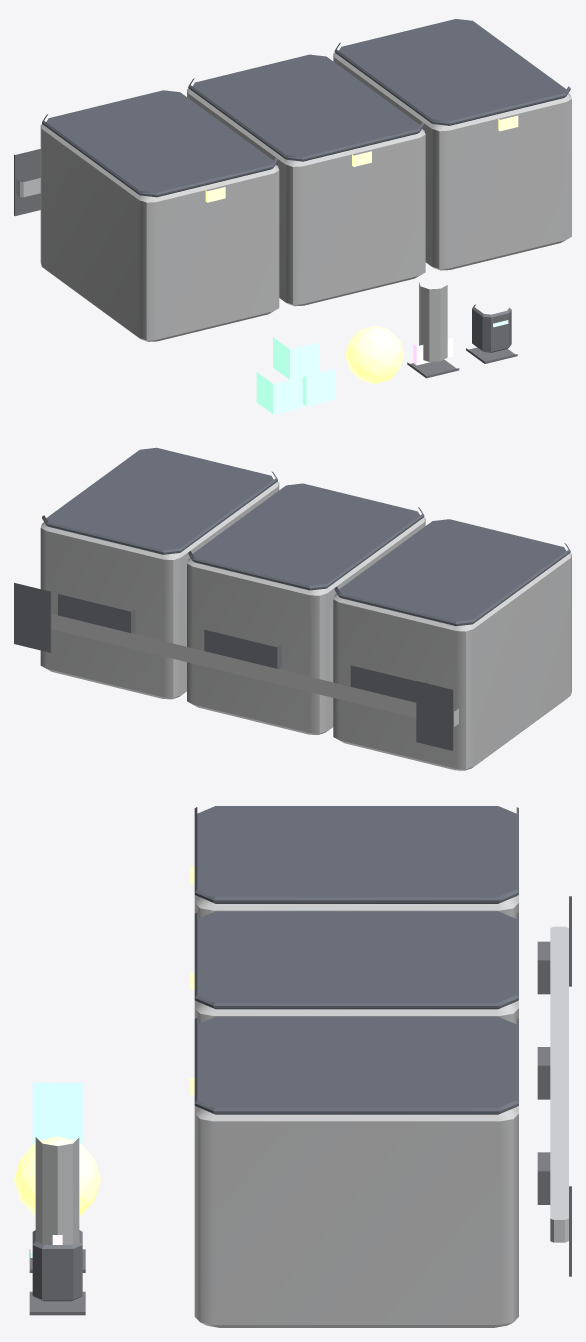
File: iter_03.glb
The picture shows the model from 3 angles, top to bottom: view 1: azimuth 30°, elevation 25°; view 2: azimuth 150°, elevation 25°; view 3: azimuth 270°, elevation 25°; orthographic projection. The views are drawn at different scales.
Parts seen in each view (by area): view 1: Bins, Bin_Lids, Toy_Blocks, Toy_Ball, Toy_Rocket, Toy_Sprocket, Wall_Plates, Mag_Pads, Lid_Latches; view 2: Bins, Bin_Lids, Wall_Rail, Bin_Hooks, Wall_Plates; view 3: Bin_Lids, Bins, Wall_Rail, Toy_Rocket, Toy_Sprocket, Toy_Blocks, Toy_Ball, Bin_Hooks, Mag_Pads.
Boxes of the visible parts, x1,y1,x2,y2 form: Bins: [40, 53, 571, 341]; Bin_Lids: [42, 19, 570, 197]; Toy_Blocks: [256, 337, 335, 414]; Toy_Ball: [345, 326, 404, 383]; Toy_Rocket: [419, 282, 447, 361]; Toy_Sprocket: [472, 304, 511, 352]; Wall_Plates: [14, 149, 40, 216]; Mag_Pads: [407, 347, 517, 378]; Lid_Latches: [205, 115, 518, 202]; Bins: [40, 481, 571, 770]; Bin_Lids: [42, 447, 570, 626]; Wall_Rail: [51, 614, 458, 726]; Bin_Hooks: [58, 594, 427, 702]; Wall_Plates: [14, 583, 453, 750]; Bin_Lids: [194, 806, 518, 1114]; Bins: [194, 895, 518, 1327]; Wall_Rail: [550, 926, 568, 1242]; Toy_Rocket: [35, 1137, 79, 1244]; Toy_Sprocket: [32, 1230, 82, 1301]; Toy_Blocks: [32, 1082, 82, 1144]; Toy_Ball: [14, 1136, 101, 1216]; Bin_Hooks: [537, 941, 550, 1204]; Mag_Pads: [29, 1249, 85, 1315].
Bounding box in the file's own units: 1.2 × 0.512 × 0.895.
